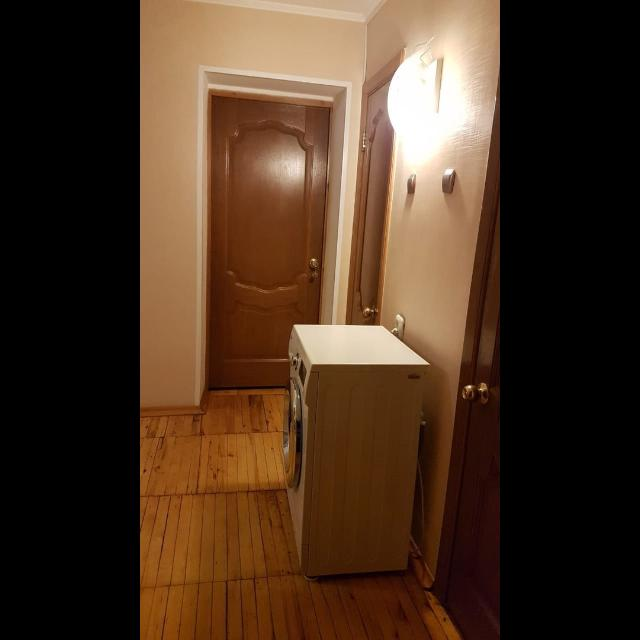Washing-Machine: (284, 322, 428, 578)
